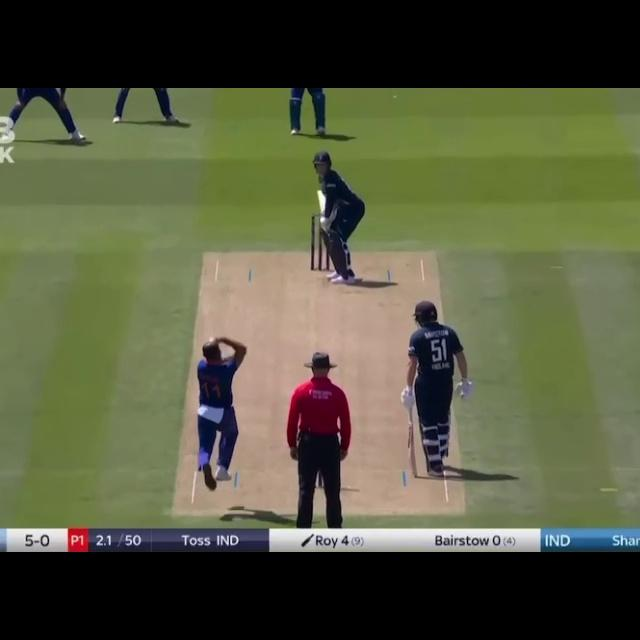umpire: (273, 348, 366, 527)
